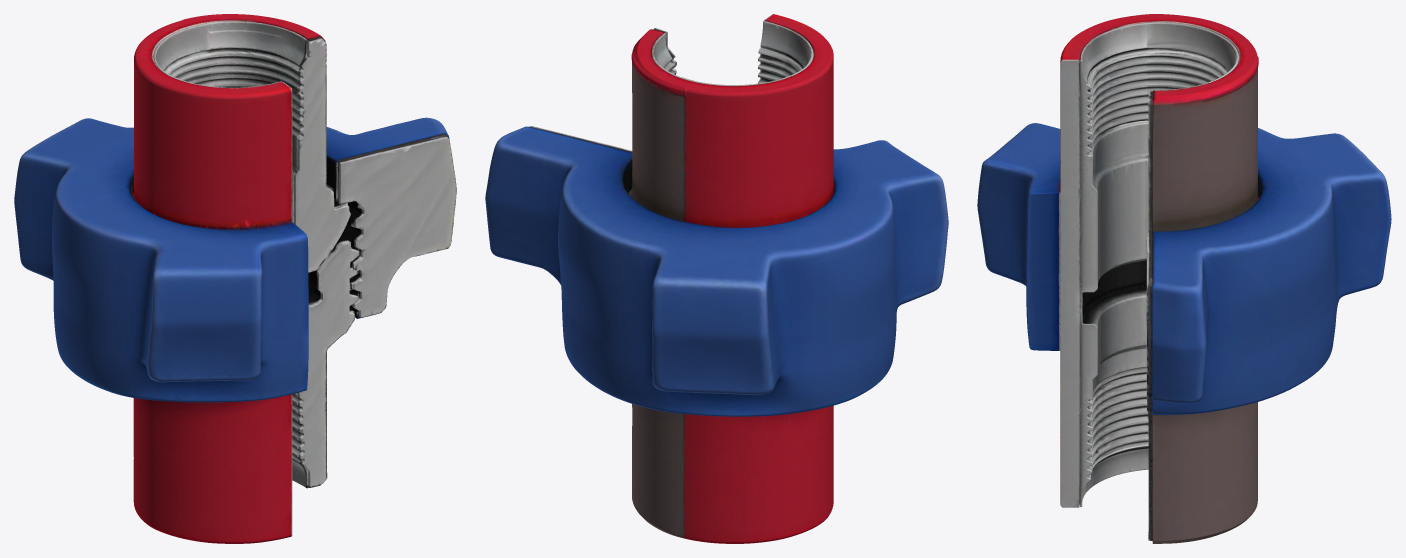
File: UnionDeGolpeFigura1502.glb
The picture shows the model from 3 angles, left to right: view 1: azimuth 30°, elevation 25°; view 2: azimuth 150°, elevation 25°; view 3: azimuth 270°, elevation 25°; orthographic projection.
Parts seen in each view (by area): view 1: tripo_node_17979500-6635-4bb5-a150-5dbe0b8b03d1; view 2: tripo_node_17979500-6635-4bb5-a150-5dbe0b8b03d1; view 3: tripo_node_17979500-6635-4bb5-a150-5dbe0b8b03d1.
Boxes of the visible parts, box(x1,y1,x2,y2) form: tripo_node_17979500-6635-4bb5-a150-5dbe0b8b03d1: box(14, 14, 456, 543); tripo_node_17979500-6635-4bb5-a150-5dbe0b8b03d1: box(485, 14, 948, 543); tripo_node_17979500-6635-4bb5-a150-5dbe0b8b03d1: box(977, 14, 1391, 543).
Size of the model in its own units: 0.8739 by 0.9811 by 0.8218.
1 material, 1 textured.
